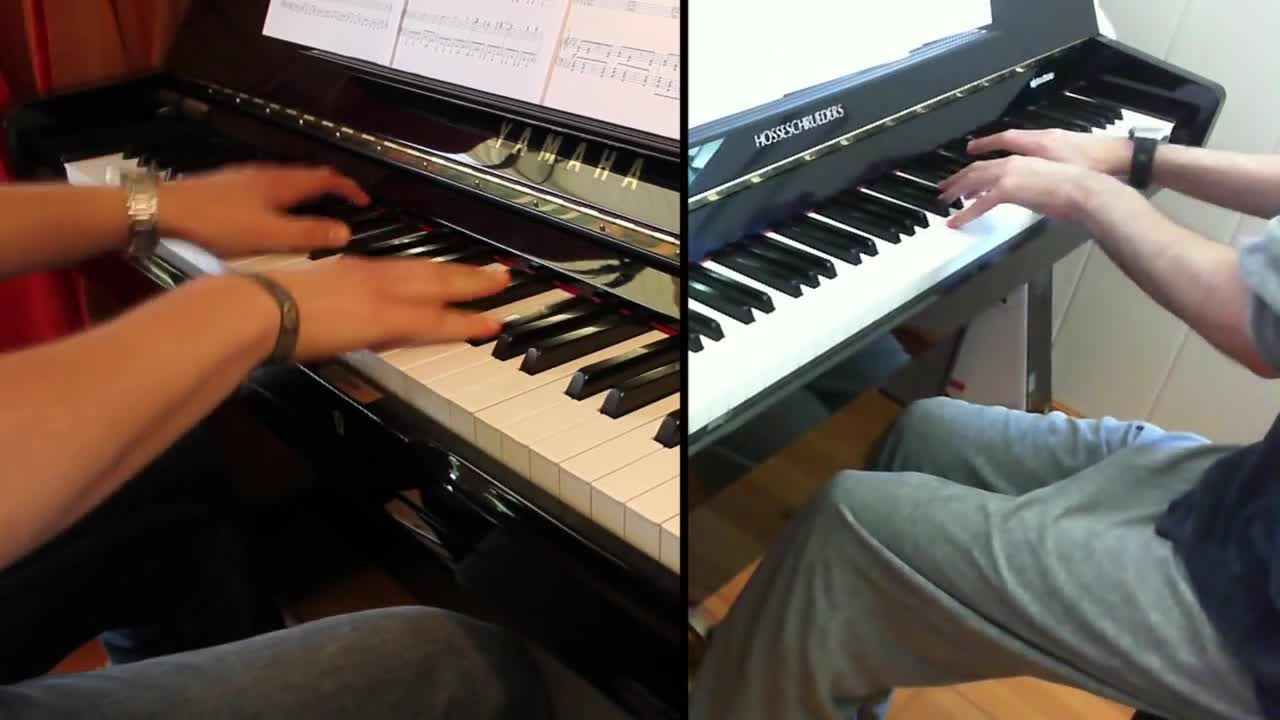left: (154, 151, 373, 255), (938, 151, 1081, 233)
right: (272, 244, 533, 355), (968, 119, 1116, 181)
